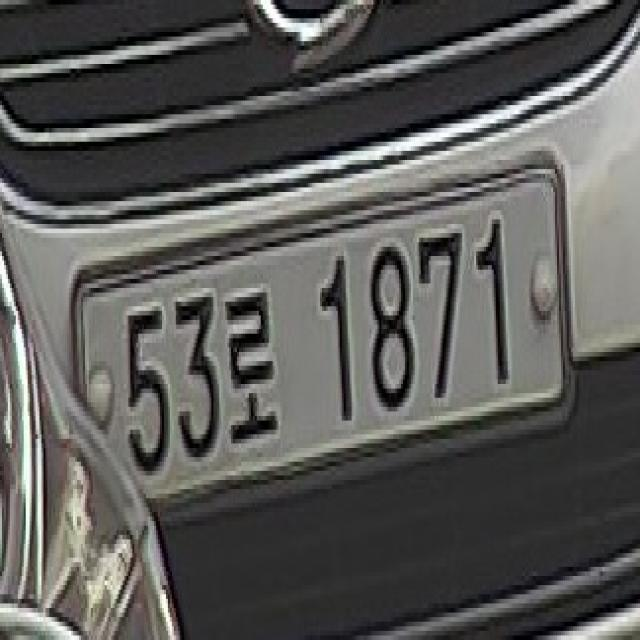1: (468, 201, 524, 402), (314, 260, 364, 439)
3: (174, 293, 223, 466)
5: (120, 302, 178, 475)
7: (415, 229, 474, 416)
8: (365, 238, 421, 430)
license_plate: (67, 146, 577, 540)
lo: (223, 279, 284, 439)
